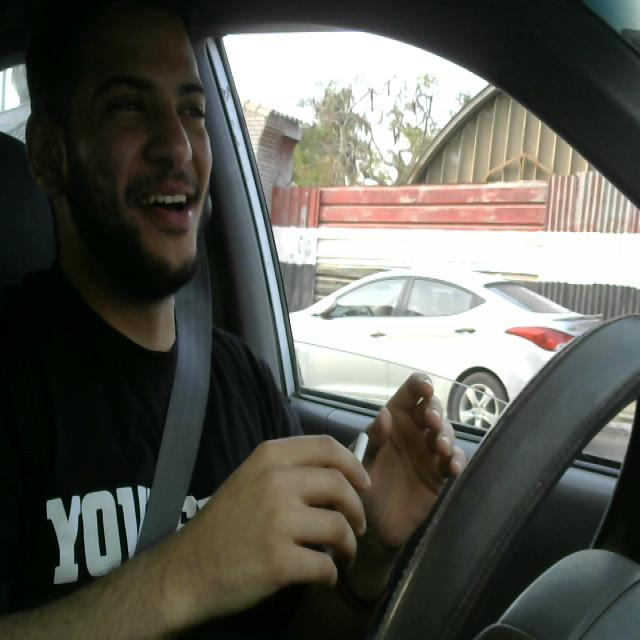smoking: (320, 414, 382, 562)
